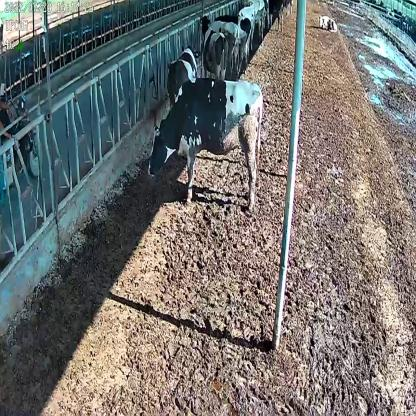cow: (147, 79, 263, 214), (167, 43, 201, 106), (198, 16, 229, 82), (318, 15, 338, 32)
